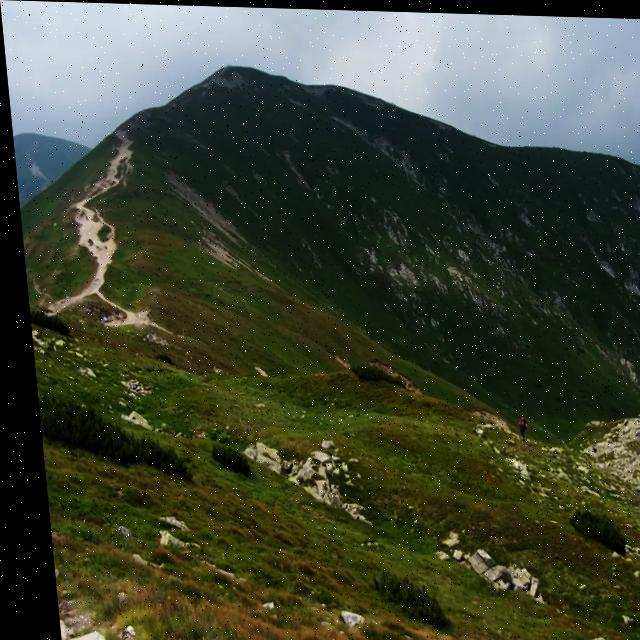Kopa Kondracka: (146, 4, 328, 128)
